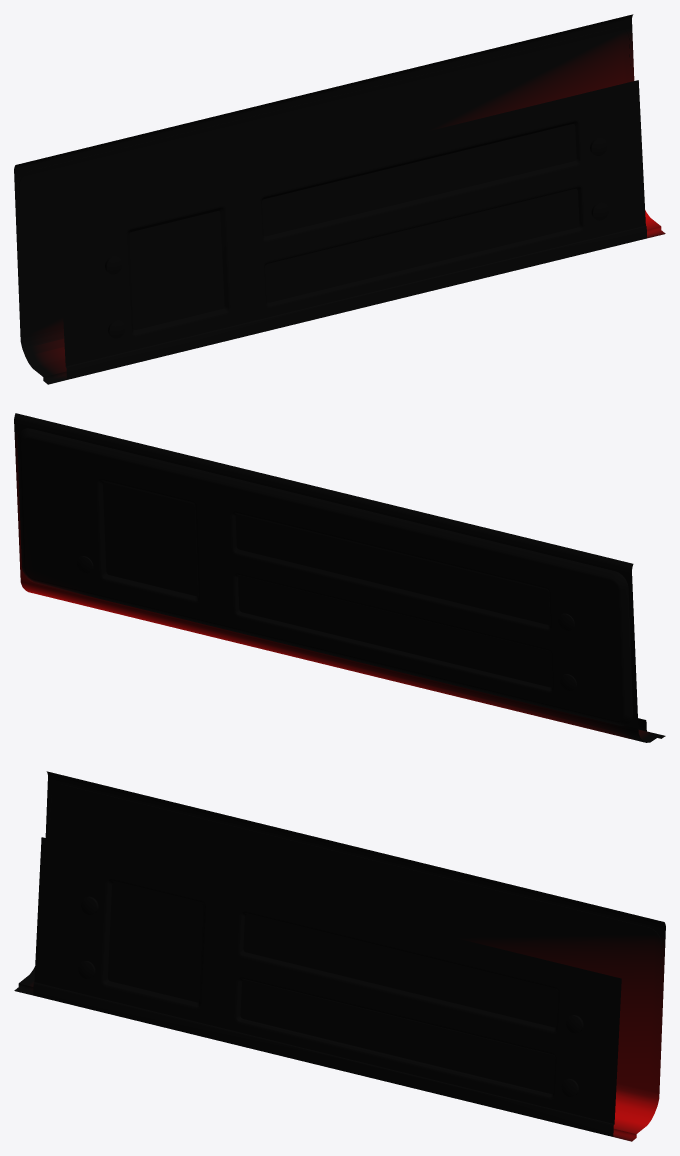
Rendered from SM_window_interior_marquee_01.fbx.
3 renders of one model, top to bottom at view 1: azimuth 30°, elevation 25°; view 2: azimuth 150°, elevation 25°; view 3: azimuth 330°, elevation 25°, orthographic.
Visible parts, largest first — view 1: SM_window_interior_marquee_01_LOD0; view 2: SM_window_interior_marquee_01_LOD0; view 3: SM_window_interior_marquee_01_LOD0.
Boxes of the visible parts, <box> form: SM_window_interior_marquee_01_LOD0: <box>14,14,665,384</box>; SM_window_interior_marquee_01_LOD0: <box>14,413,665,742</box>; SM_window_interior_marquee_01_LOD0: <box>14,771,665,1141</box>.
Size of the model in its own units: 190 by 57.58 by 19.77.
